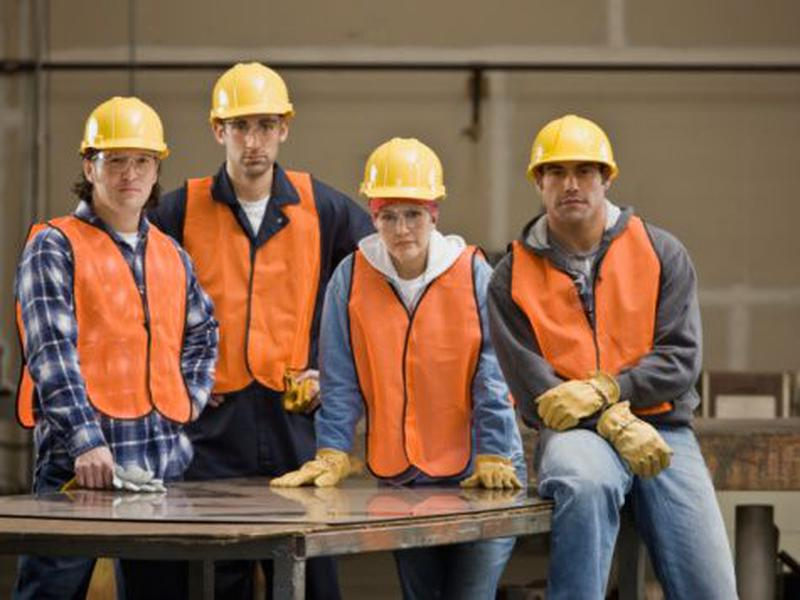hard-hat: (523, 113, 622, 182), (78, 95, 170, 167), (356, 134, 449, 204), (207, 62, 297, 128)
